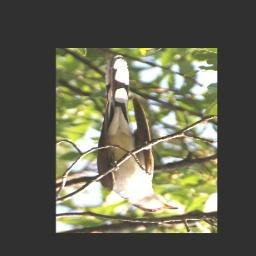Cuckoo: (95, 53, 180, 214)
